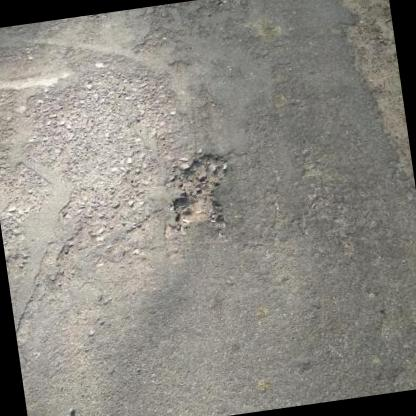pothole: (160, 147, 232, 230)
